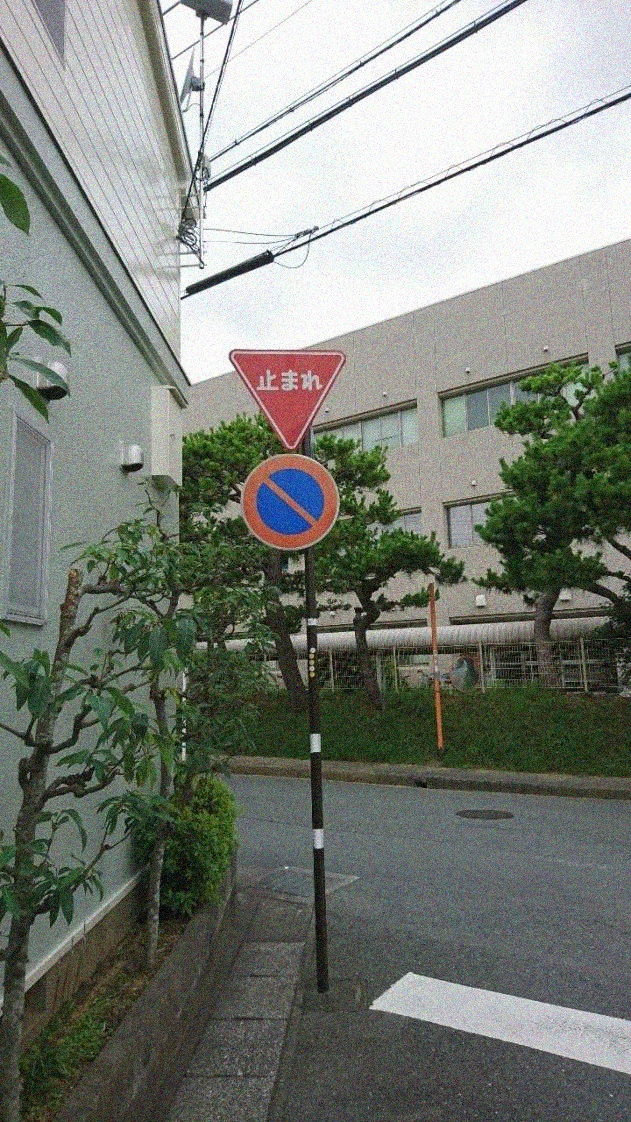Prohibition_sign: (229, 449, 349, 554)
Regulatory_sign_triangle: (226, 337, 360, 461)
